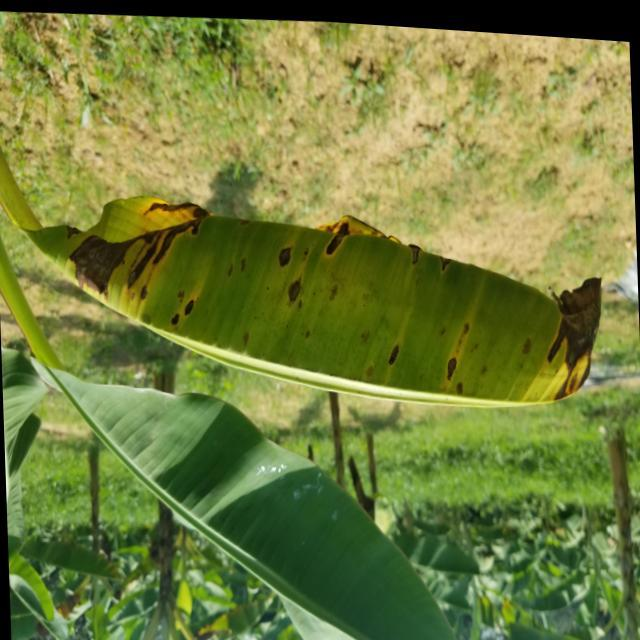Early_rust: (26, 151, 640, 435)
